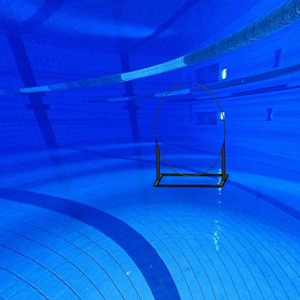circle: (153, 82, 228, 190)
